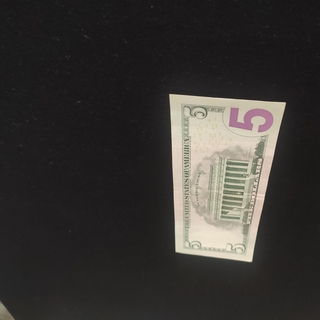5USDBack: (168, 93, 287, 263)
